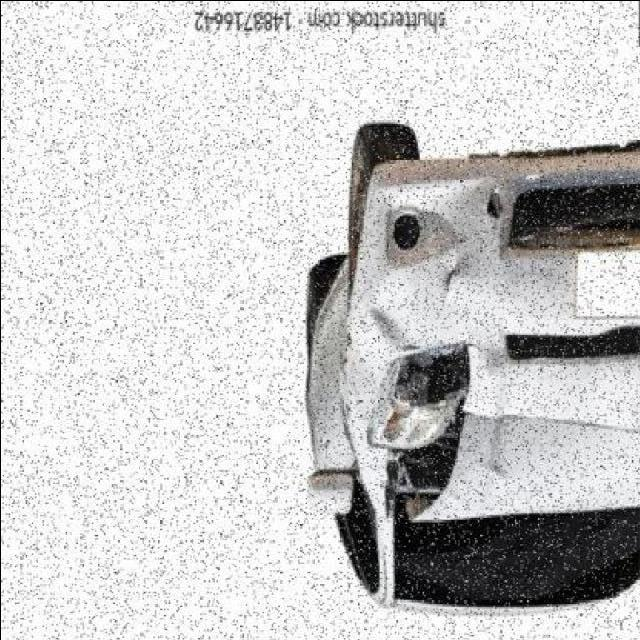Headlight-Damage: (376, 349, 482, 498)
bonnet-dent: (420, 344, 639, 518)
front-bumper-dent: (366, 139, 640, 352)
